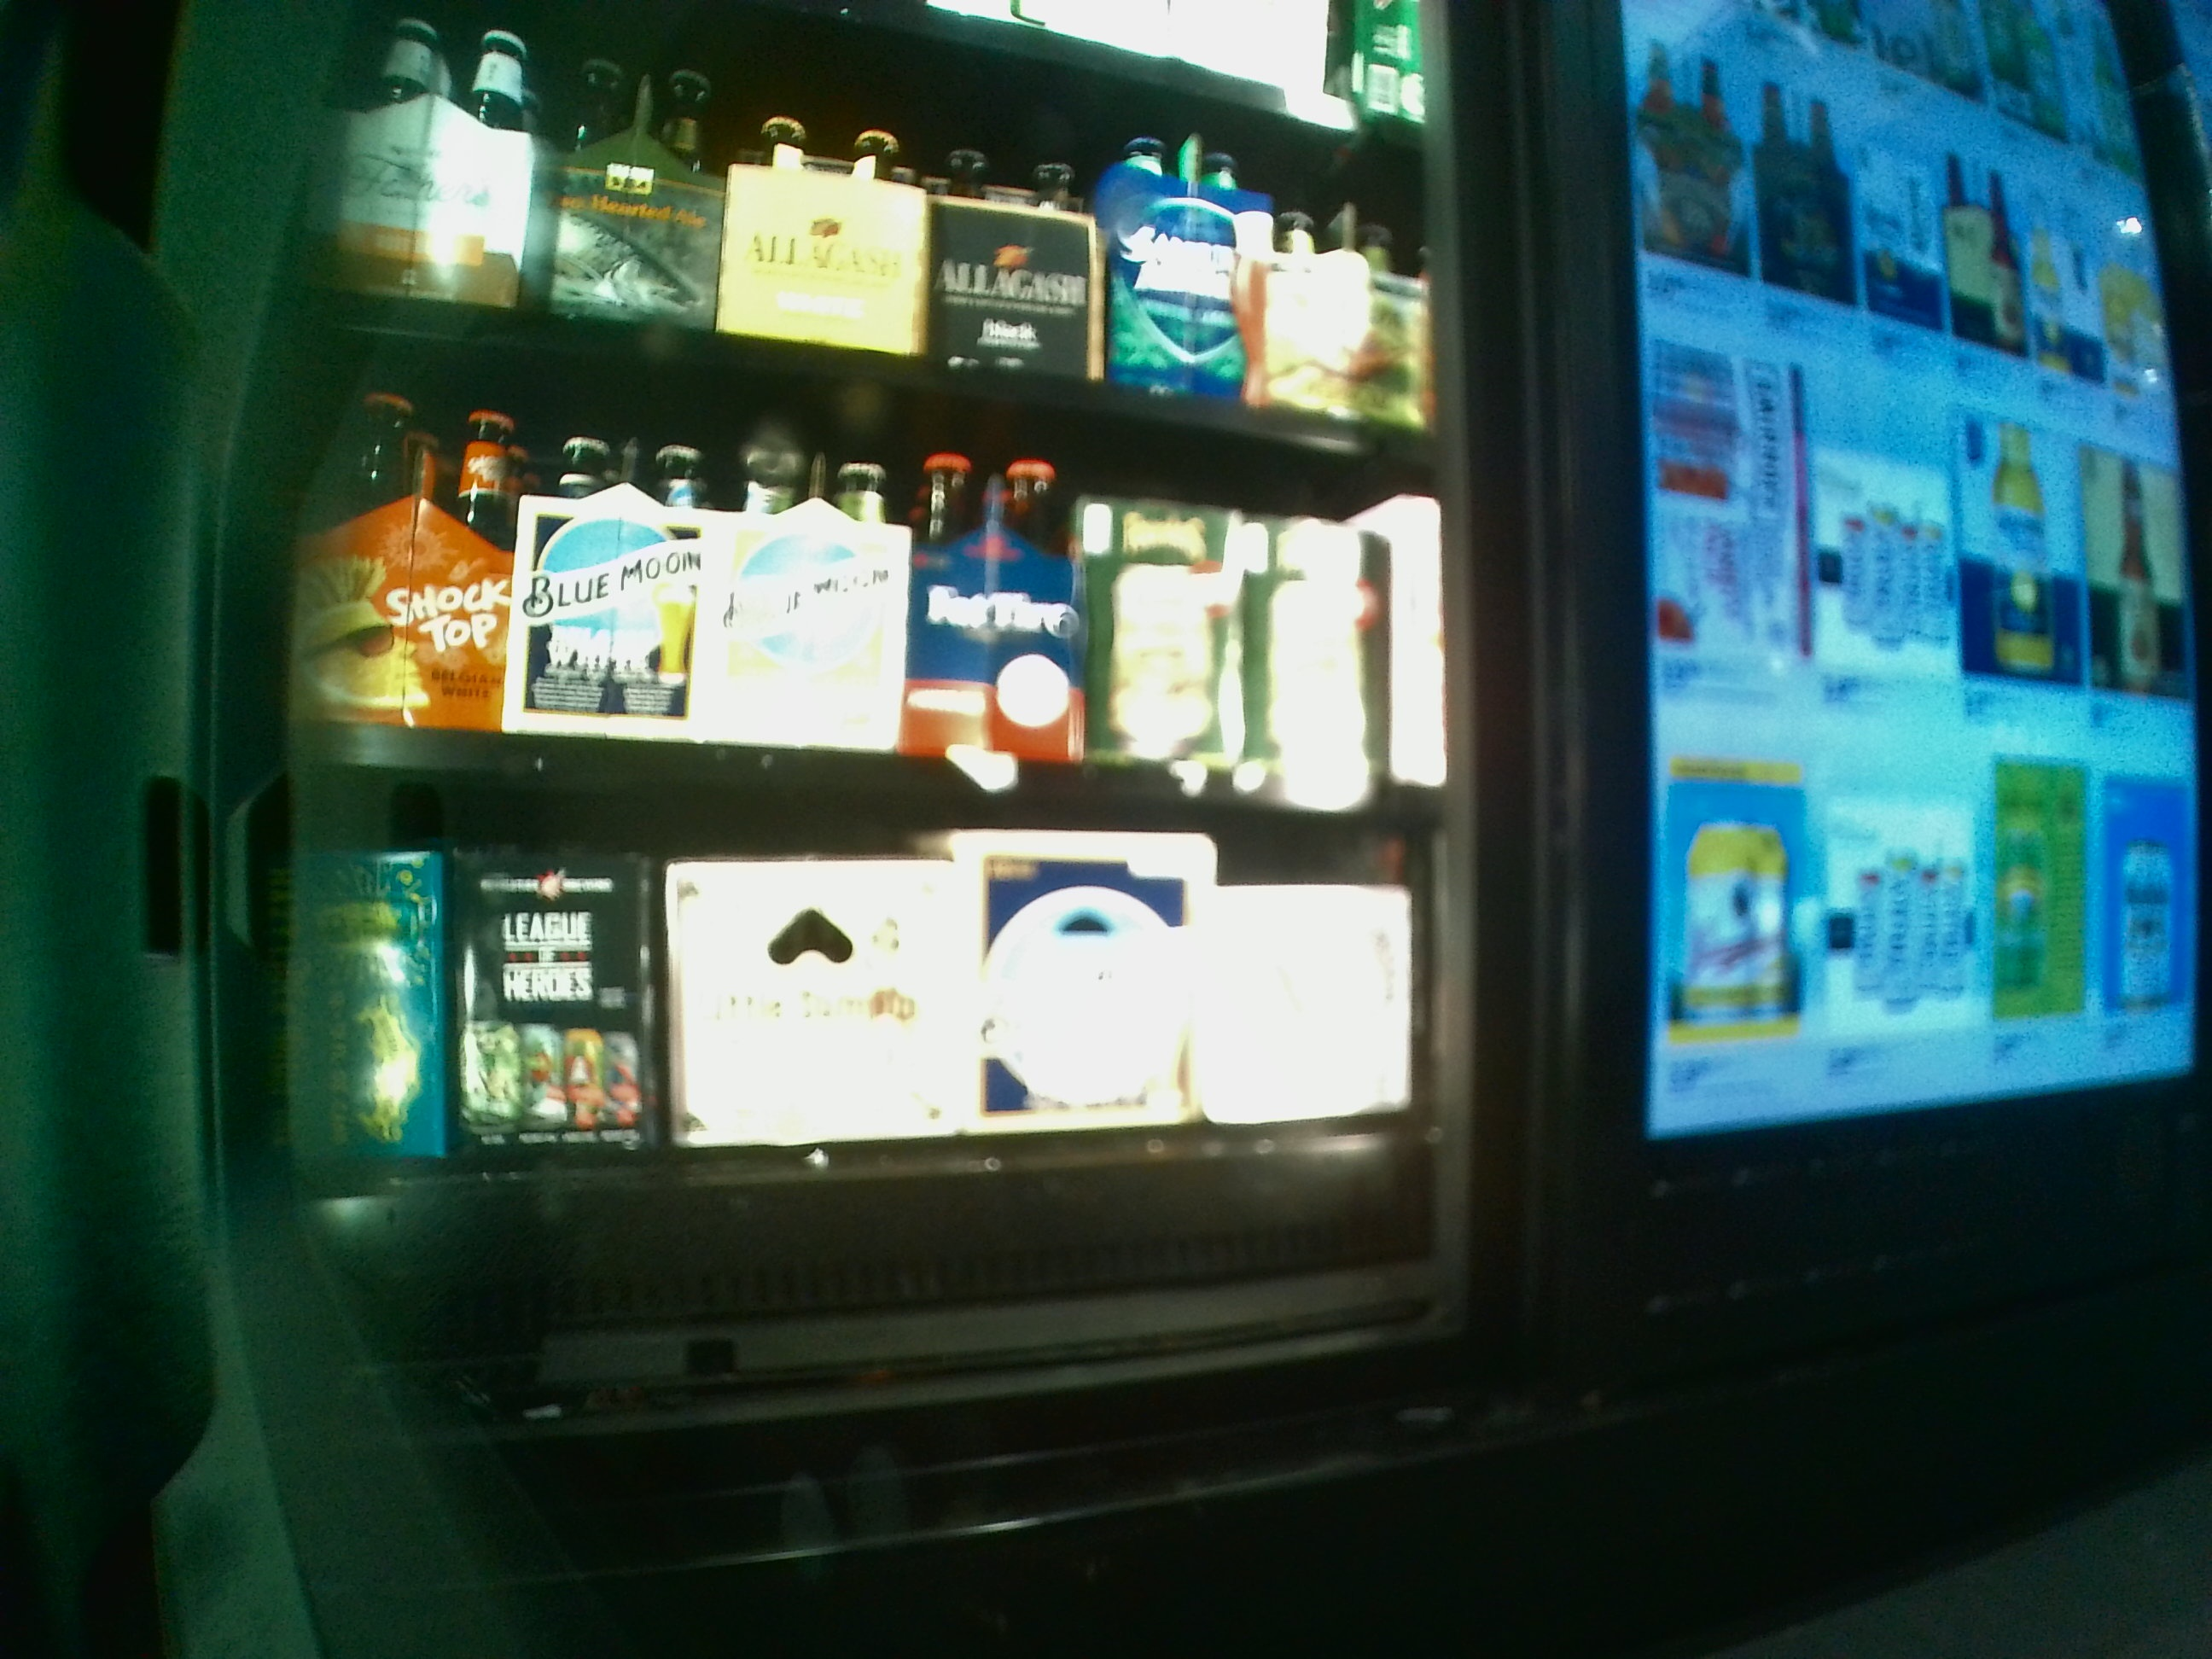shelf: (286, 803, 1458, 1328), (286, 345, 1435, 791)
